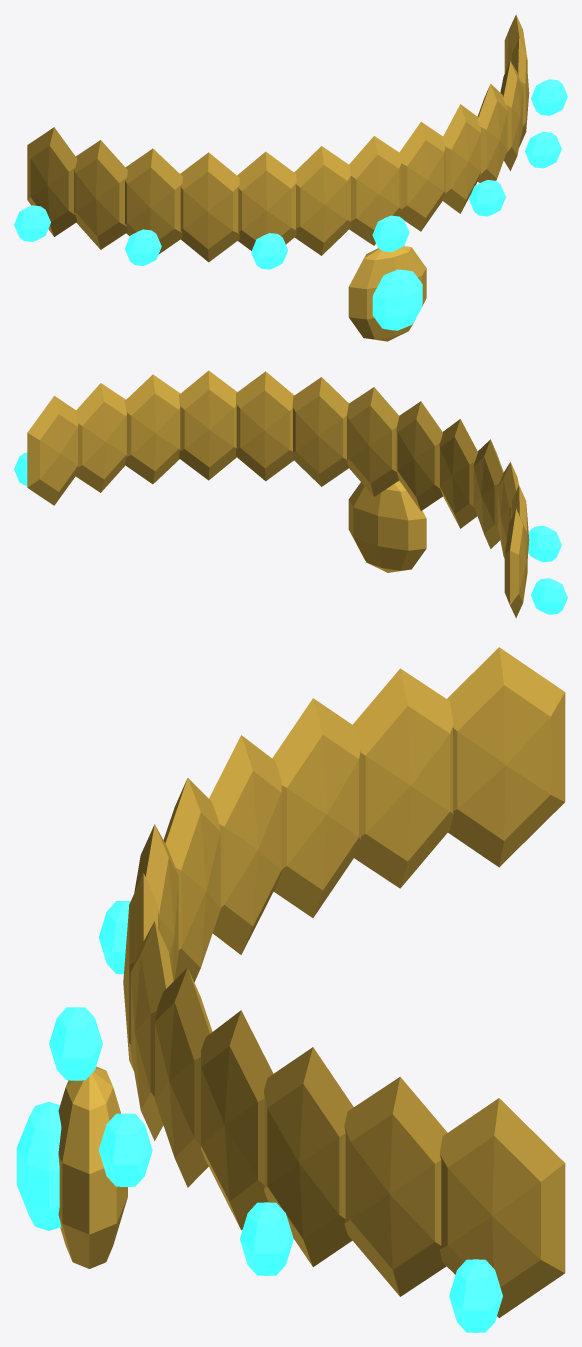
Rendered from naga_tidecaller_jewels.glb.
3 renders of one model, top to bottom at view 1: azimuth 30°, elevation 25°; view 2: azimuth 150°, elevation 25°; view 3: azimuth 270°, elevation 25°, orthographic. The views are drawn at different scales.
Parts seen in each view (by area): view 1: naga_tidecaller_jewels; view 2: naga_tidecaller_jewels; view 3: naga_tidecaller_jewels.
Part boxes in pixels (x1,y1,x2,y2): naga_tidecaller_jewels: [14, 14, 567, 341]; naga_tidecaller_jewels: [14, 370, 567, 618]; naga_tidecaller_jewels: [16, 647, 565, 1332].
Bounding box in the file's own units: 0.9353 × 0.32 × 0.4058.
